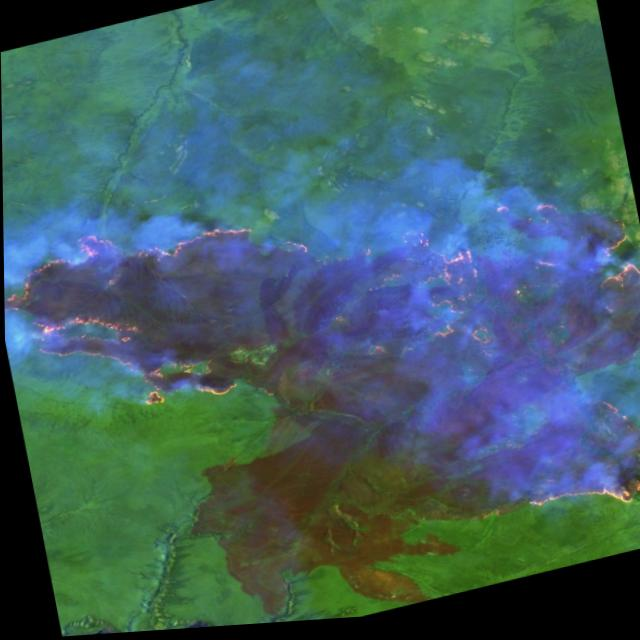fire: (340, 169, 640, 568), (2, 180, 337, 447)
